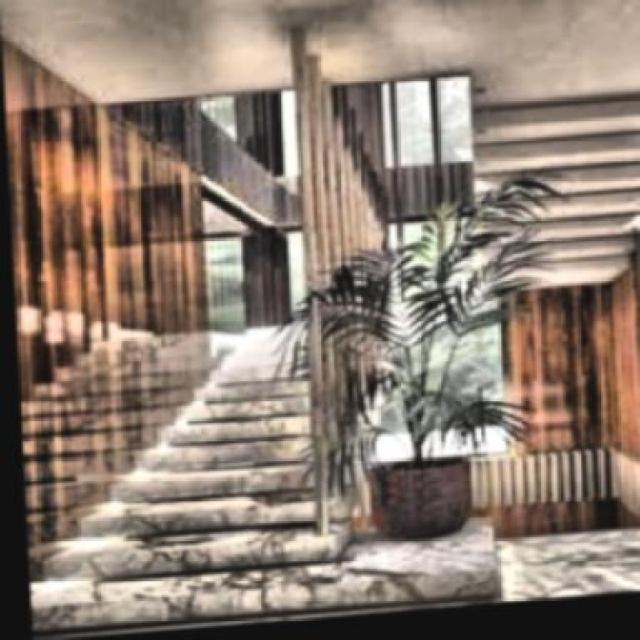stair: (14, 318, 337, 630)
